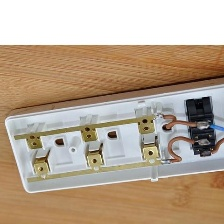three_eye_plug: (1, 71, 223, 197)
